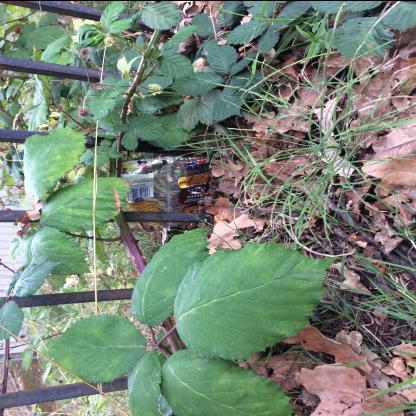plastik: (118, 155, 212, 229)
